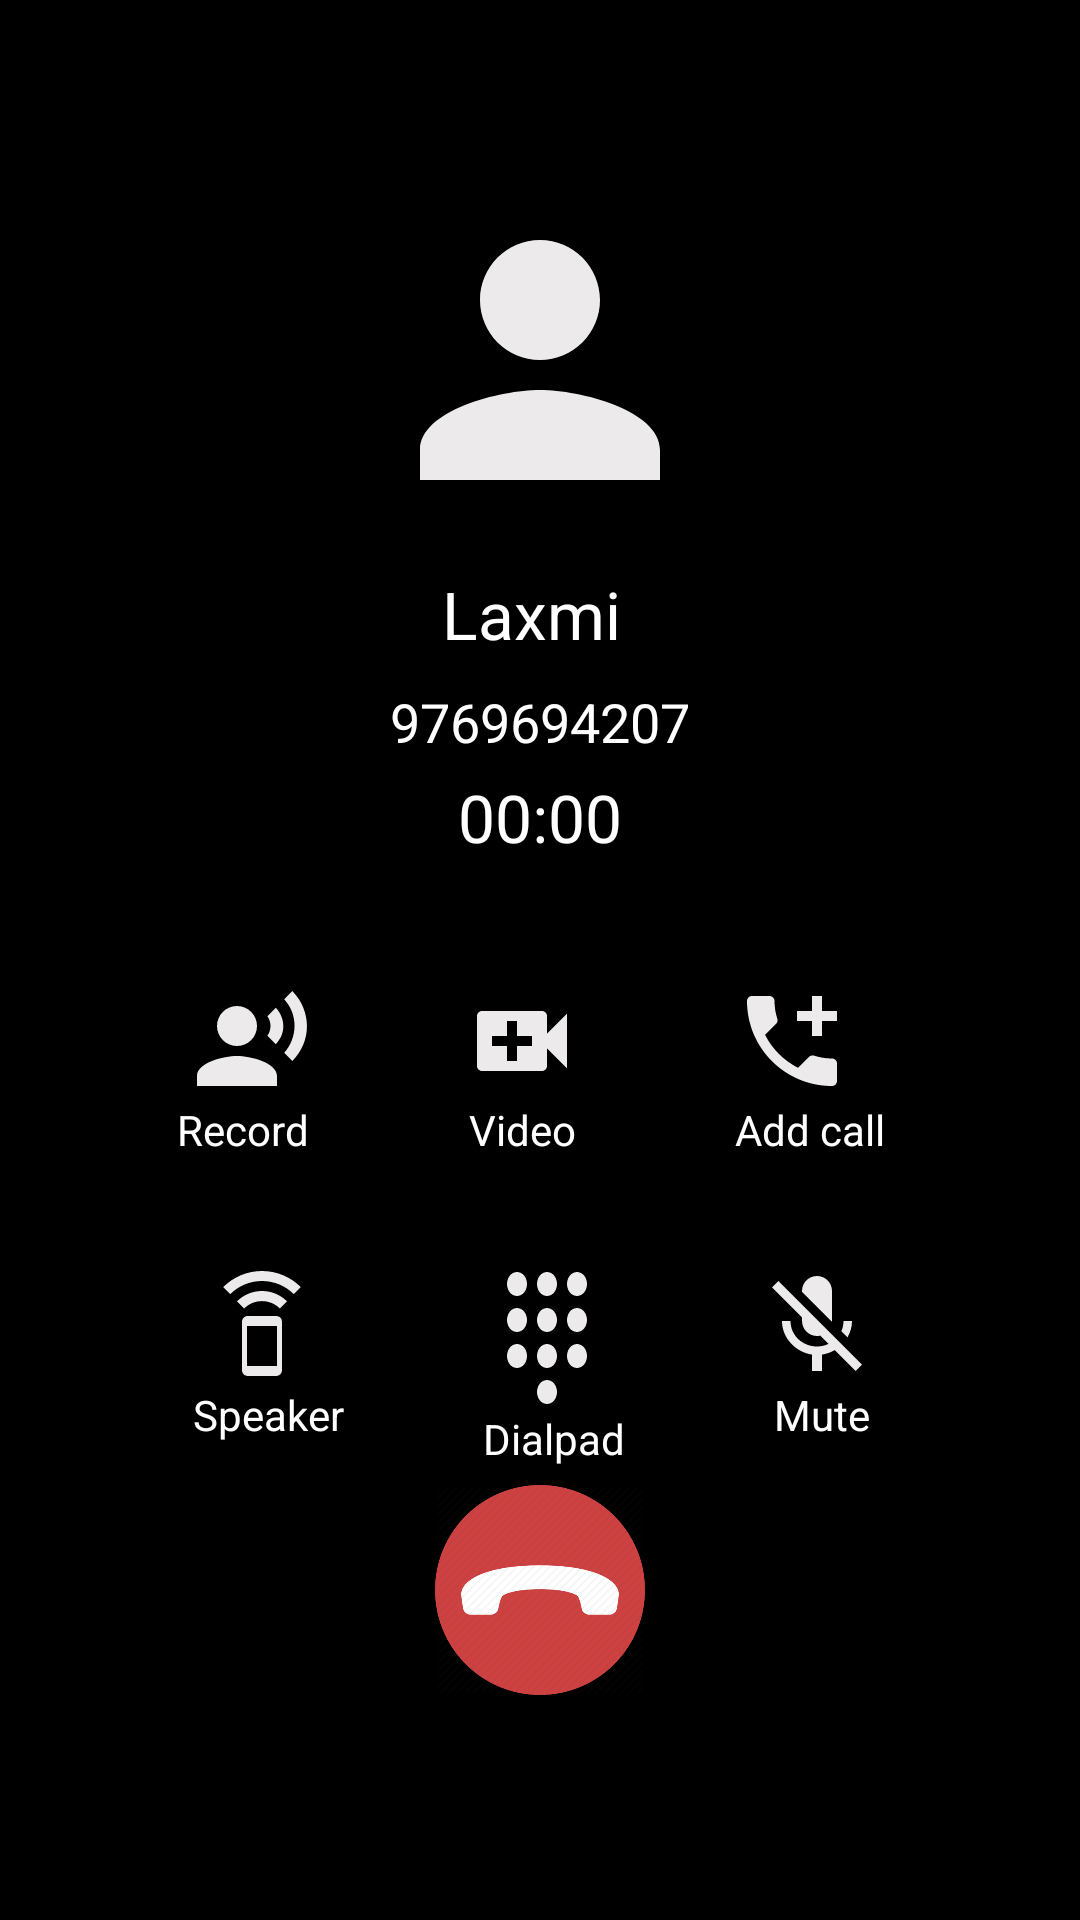

Screen size 1080 × 1920. Icon name, then its center in pixels as (x,y):
end call: (540,1590)
person: (540,360)
